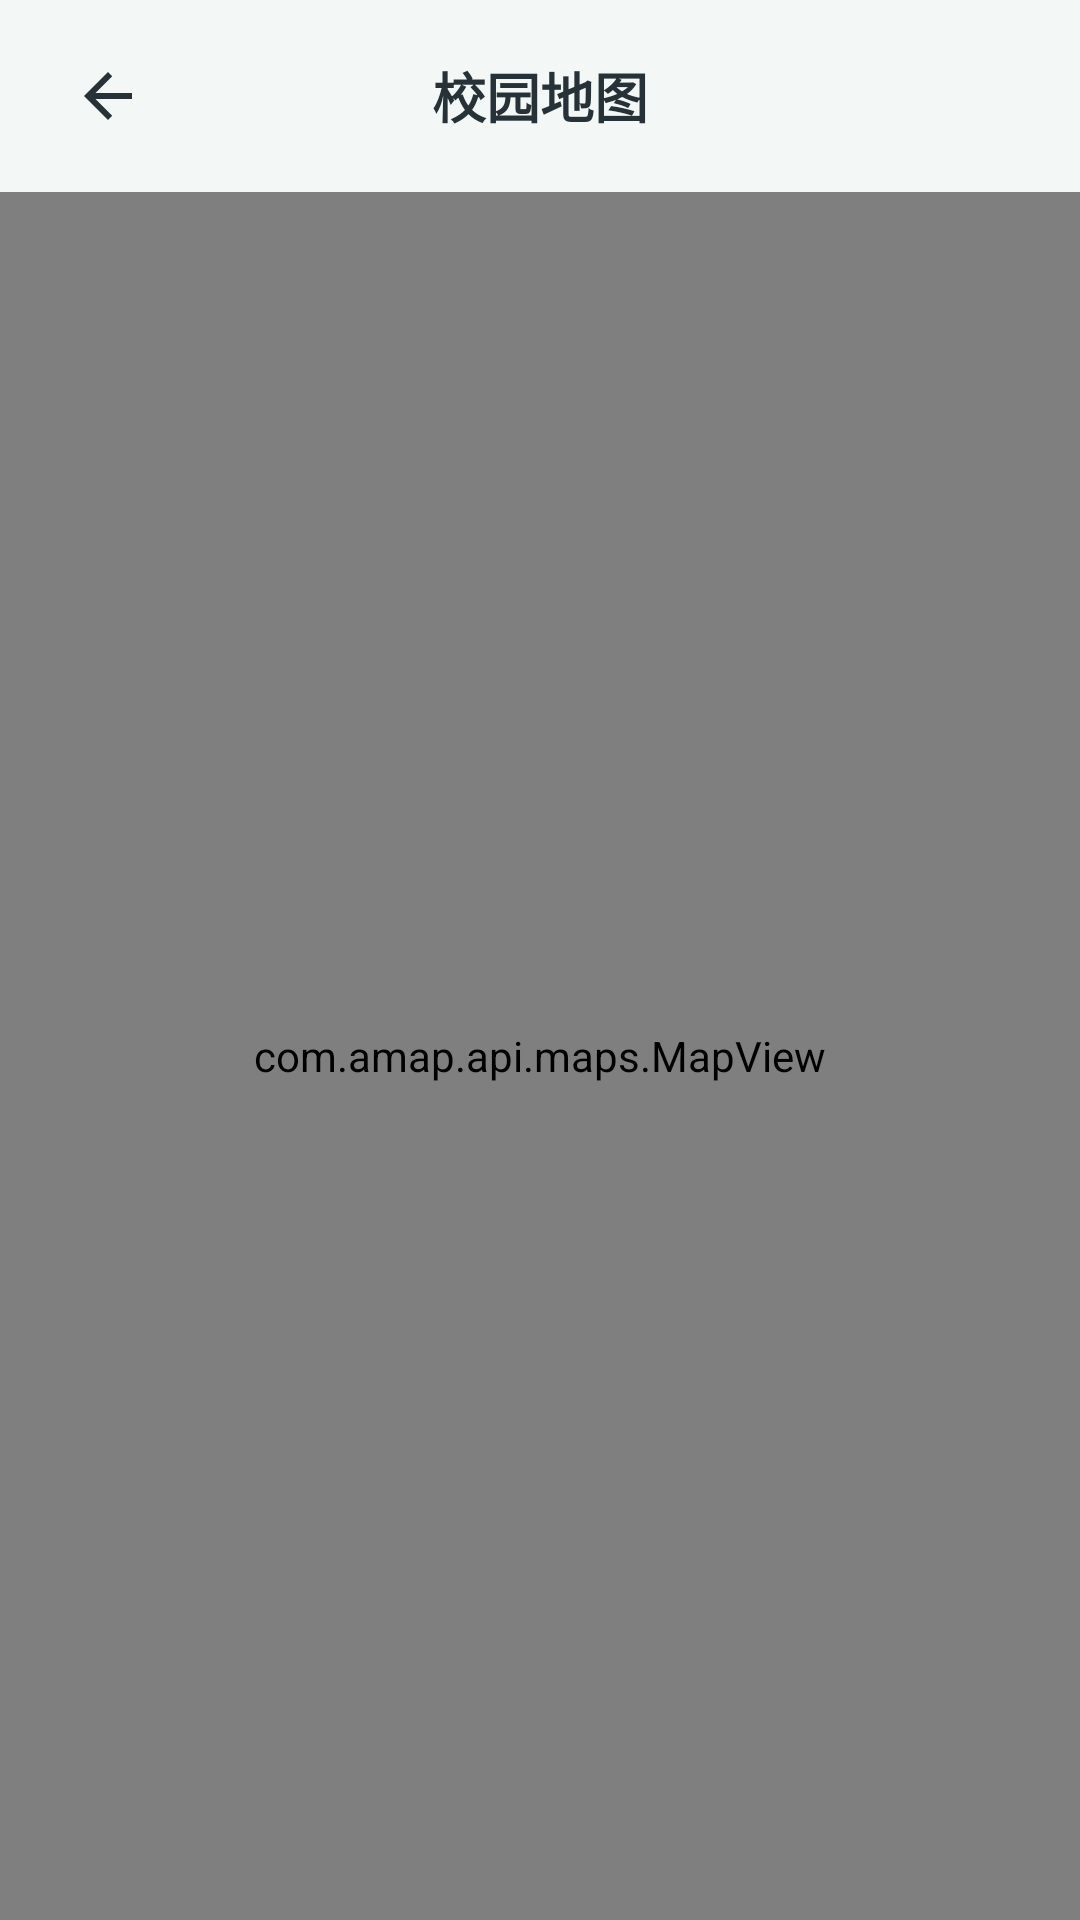

Screen size 1080 x 1920. Icon name, then its box in pixels as (x1, y1, x2, y2):
返回: (84, 72, 132, 120)
